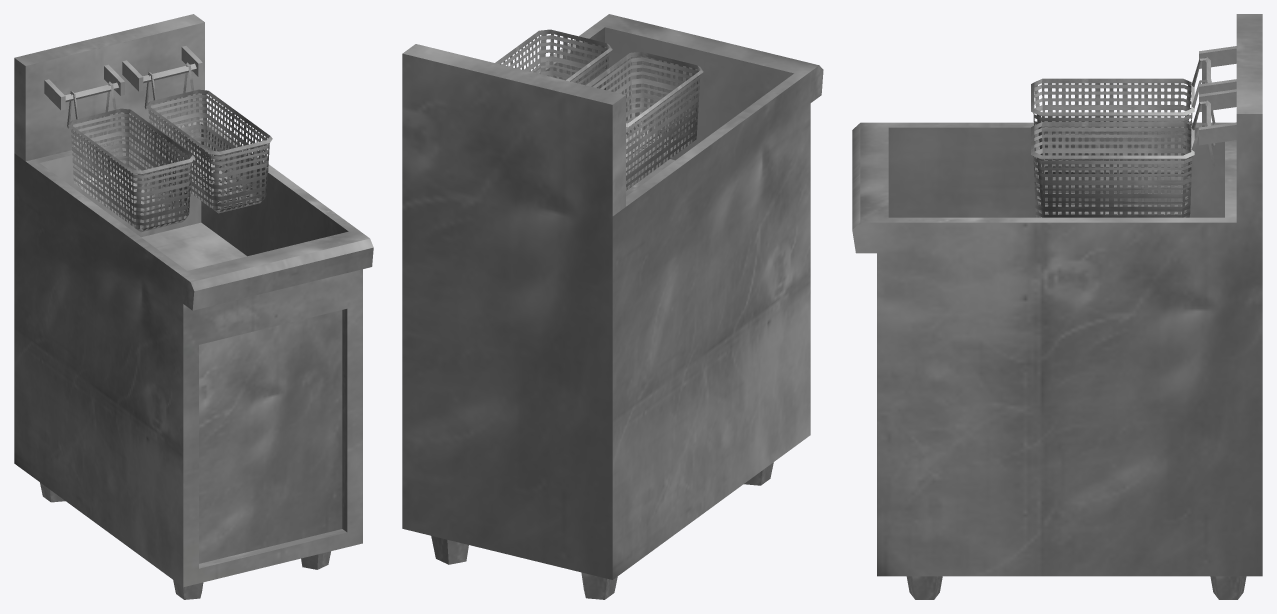
File: Fryer.dae
The picture shows the model from 3 angles, left to right: view 1: azimuth 30°, elevation 25°; view 2: azimuth 150°, elevation 25°; view 3: azimuth 270°, elevation 25°; orthographic projection. The views are drawn at different scales.
Parts seen in each view (by area): view 1: Fryer, Fryer_basket; view 2: Fryer, Fryer_basket; view 3: Fryer, Fryer_basket.
Boxes of the visible parts, bbox=[...] form: Fryer: bbox=[14, 14, 373, 599]; Fryer_basket: bbox=[144, 62, 272, 213]; Fryer: bbox=[402, 14, 823, 599]; Fryer_basket: bbox=[495, 29, 612, 89]; Fryer: bbox=[852, 14, 1262, 599]; Fryer_basket: bbox=[1031, 101, 1215, 217].
Bounding box in the file's own units: 0.5858 × 1.02 × 1.36.
Materials: 2 (2 with a texture image).
